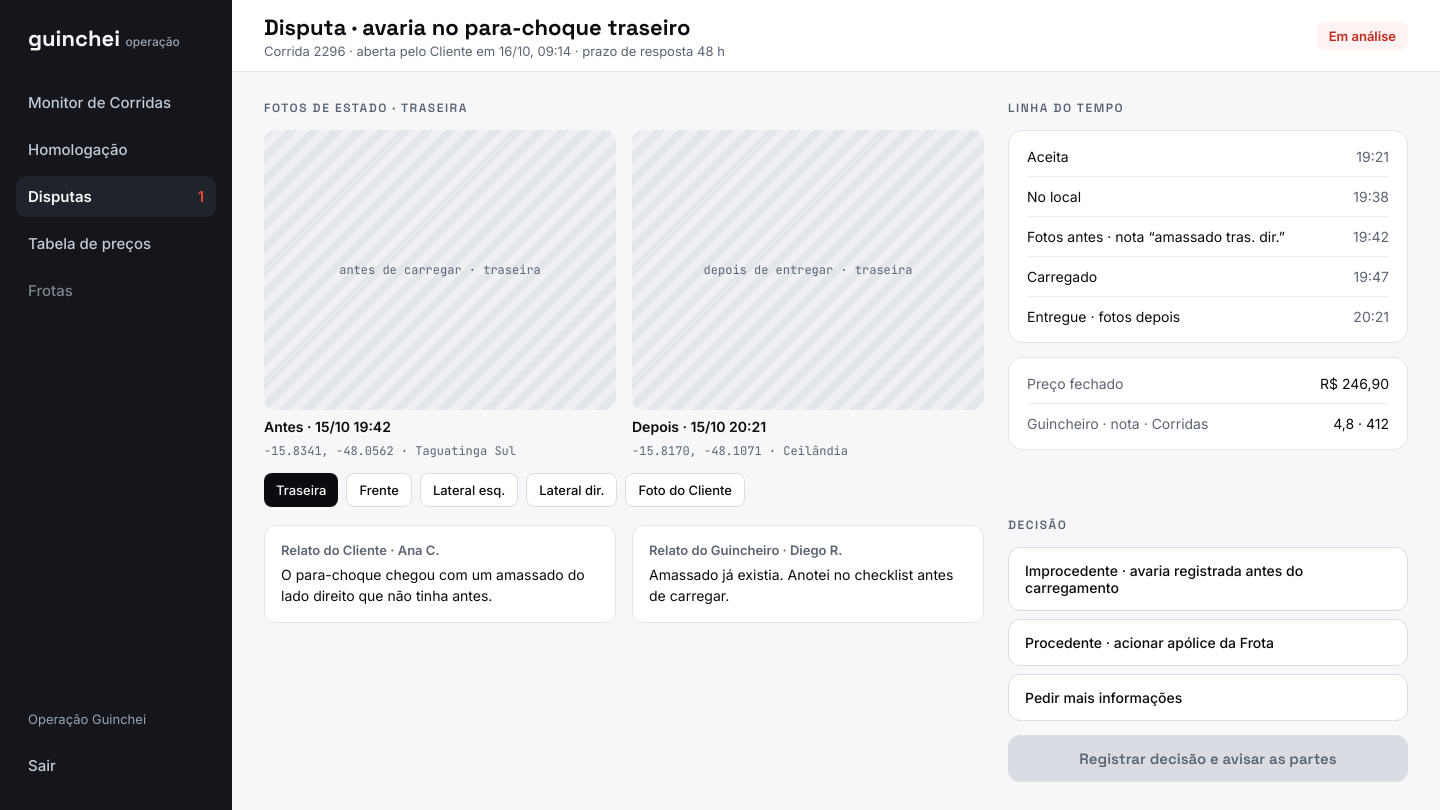
App painel › a Disputa só registra uma decisão escolhida pela operação
Expected: the navigation bar named "Painel de operação" is shown, [0, 0, 232, 809]
Expected: the button "Registrar decisão e avisar as partes" is disabled, [1008, 735, 1408, 782]
Click the radio button labelled "Procedente · acionar apólice da Frota" at (1208, 642), box [1008, 619, 1408, 666]
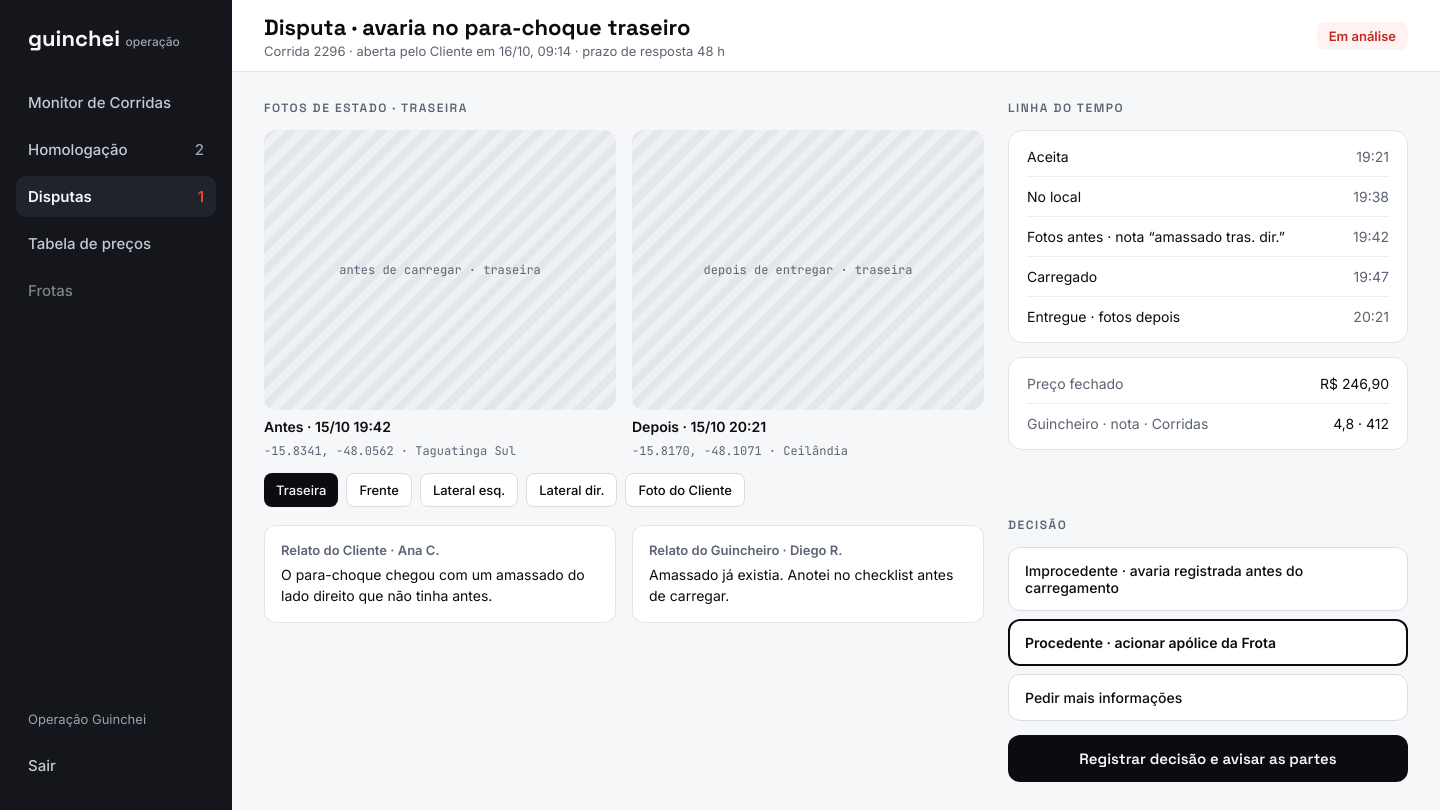
Click the button "Registrar decisão e avisar as partes" at (1208, 758), box [1008, 735, 1408, 782]
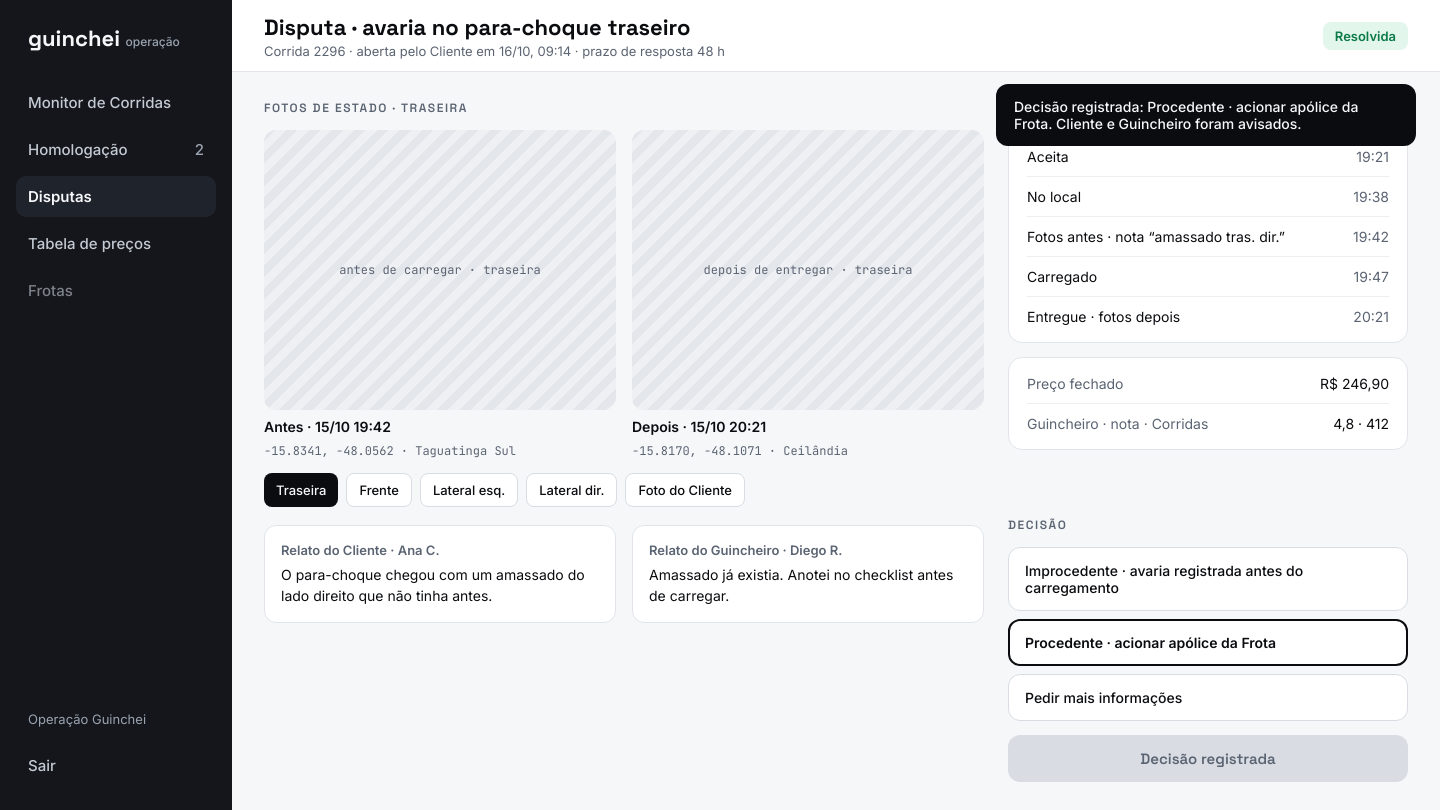
Expected: the radio button labelled "Procedente · acionar apólice da Frota" is shown, [1008, 619, 1408, 666]
Result: the message shows "Procedente" at [1014, 98, 1358, 132]
